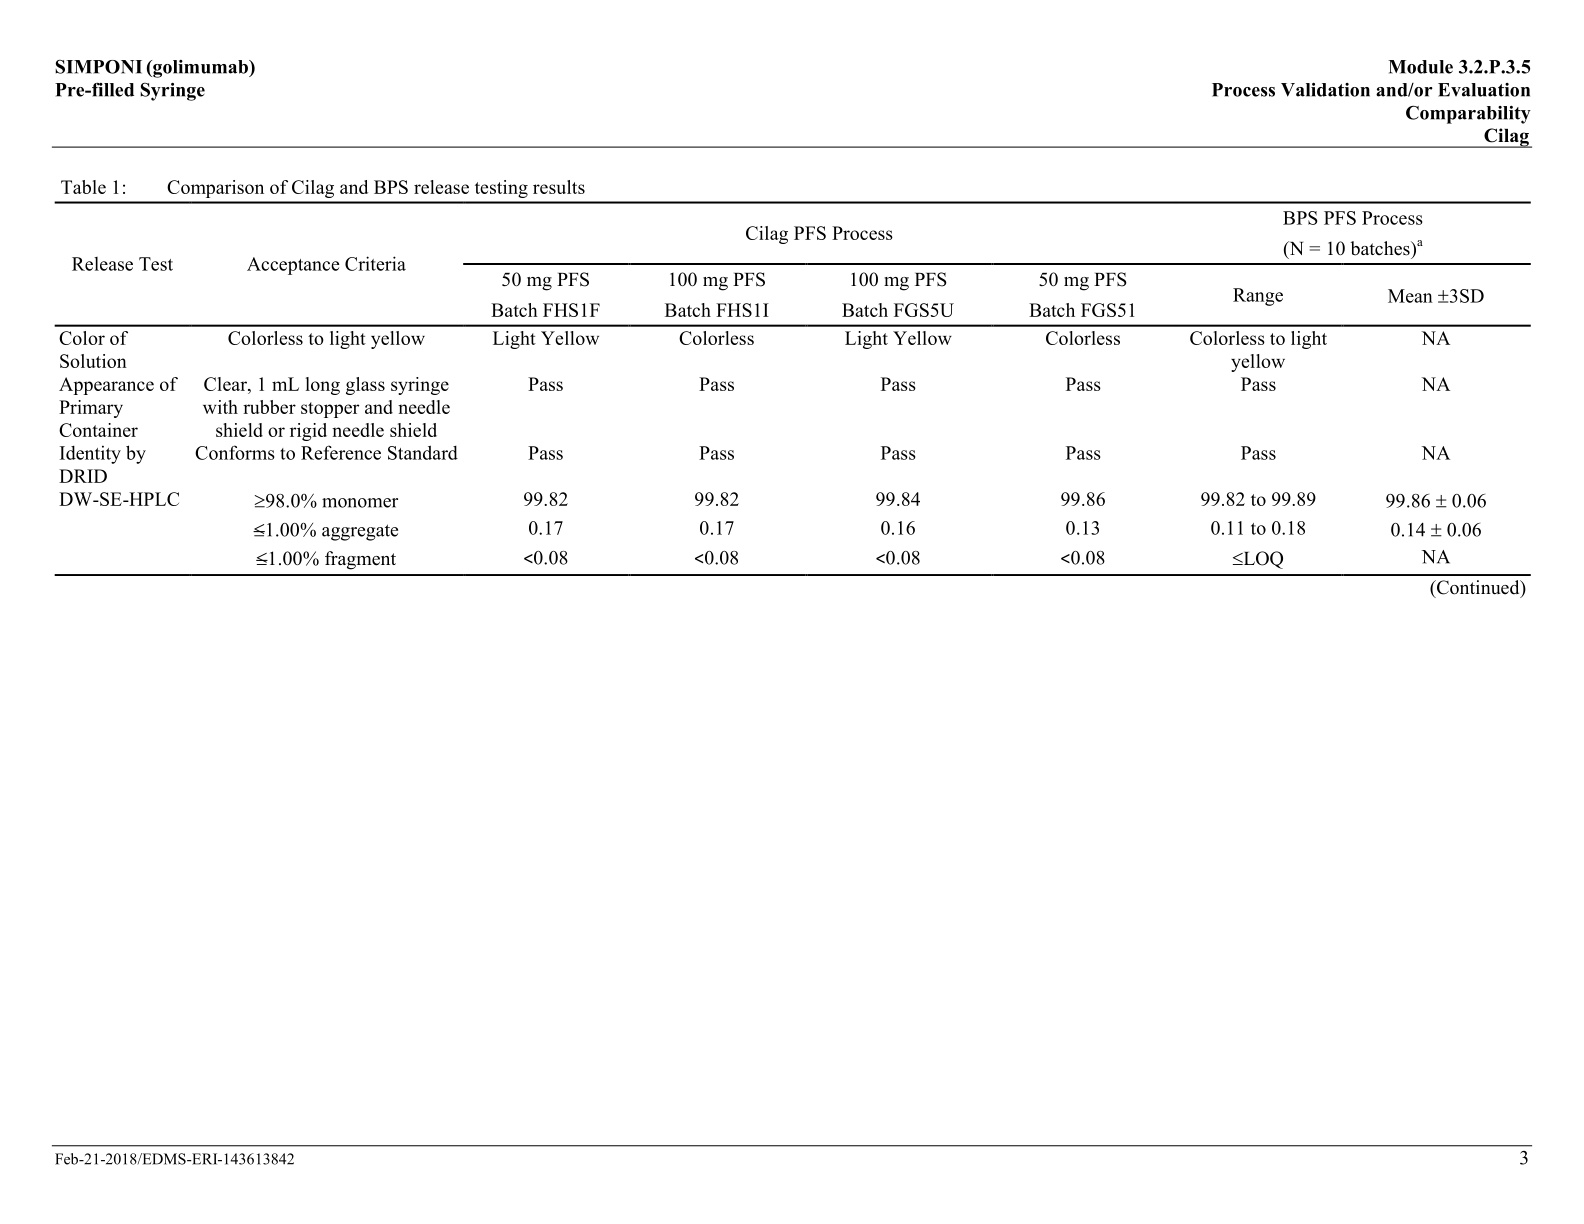partial_lined_merged_cells: (55, 201, 1530, 576)
